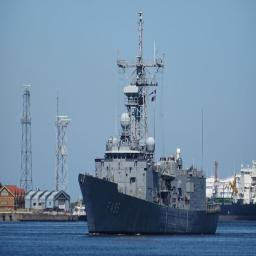Fragata: (78, 2, 224, 239)
